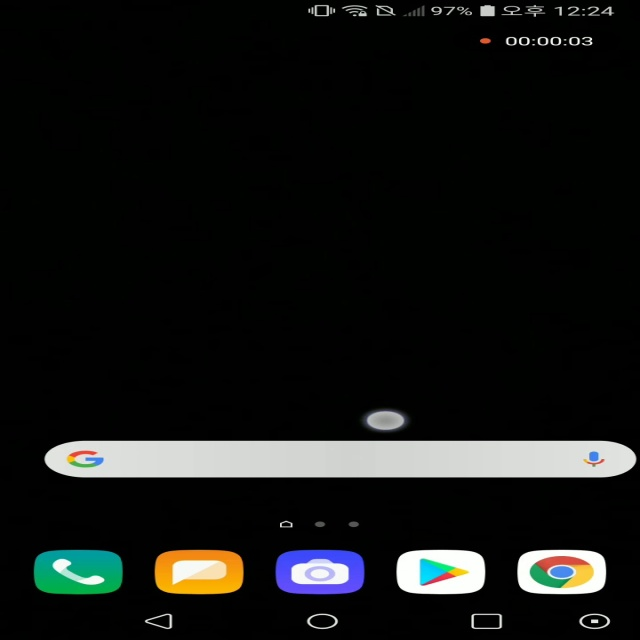Cursor: (362, 410, 407, 432)
